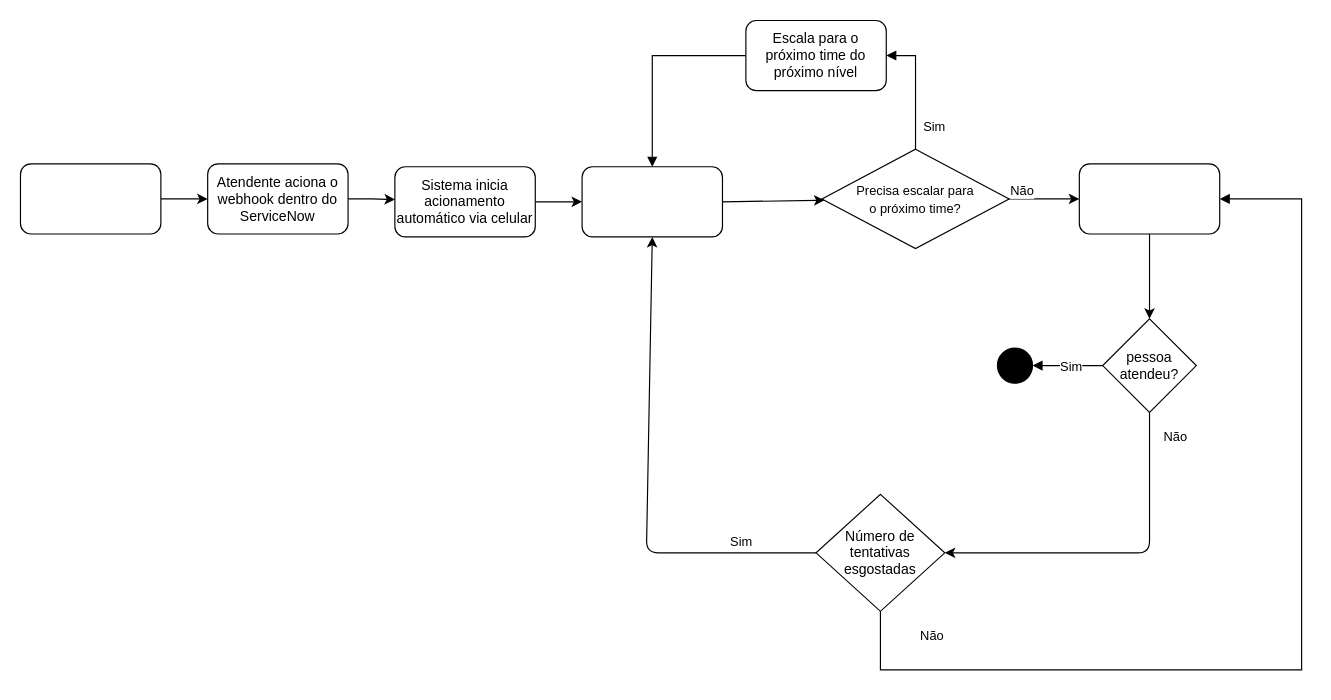
Image size: 1331x700. Some labels were removed from this diagram. The shapes that lost their labels are listed below. From the top down, each one's centre as x and y in pixels, then its label:
At [90,198]: "Atendente cria o incidente no ServiceNow".
At [651,201]: "Sistema busca a próxima pessoa do time".
At [1149,198]: "Sistema liga para o membro do time".
